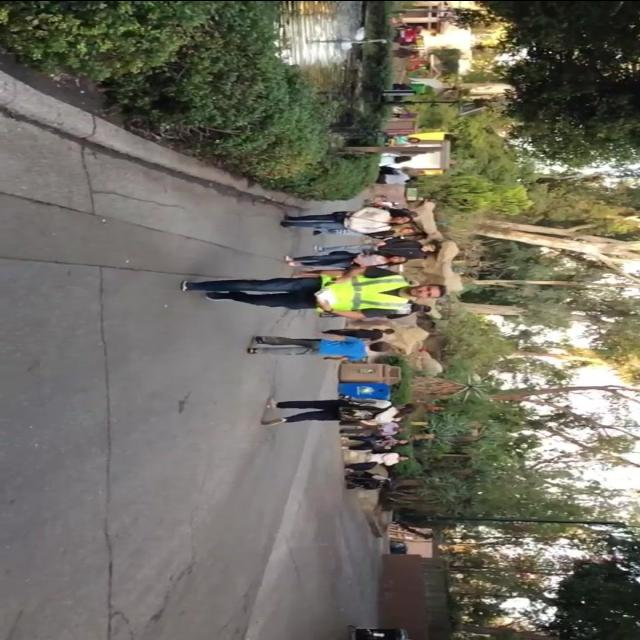jacket: (301, 257, 412, 329)
